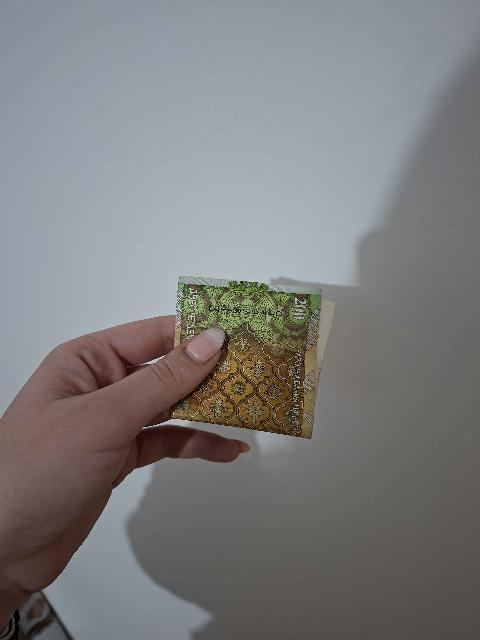note: (170, 277, 321, 438)
